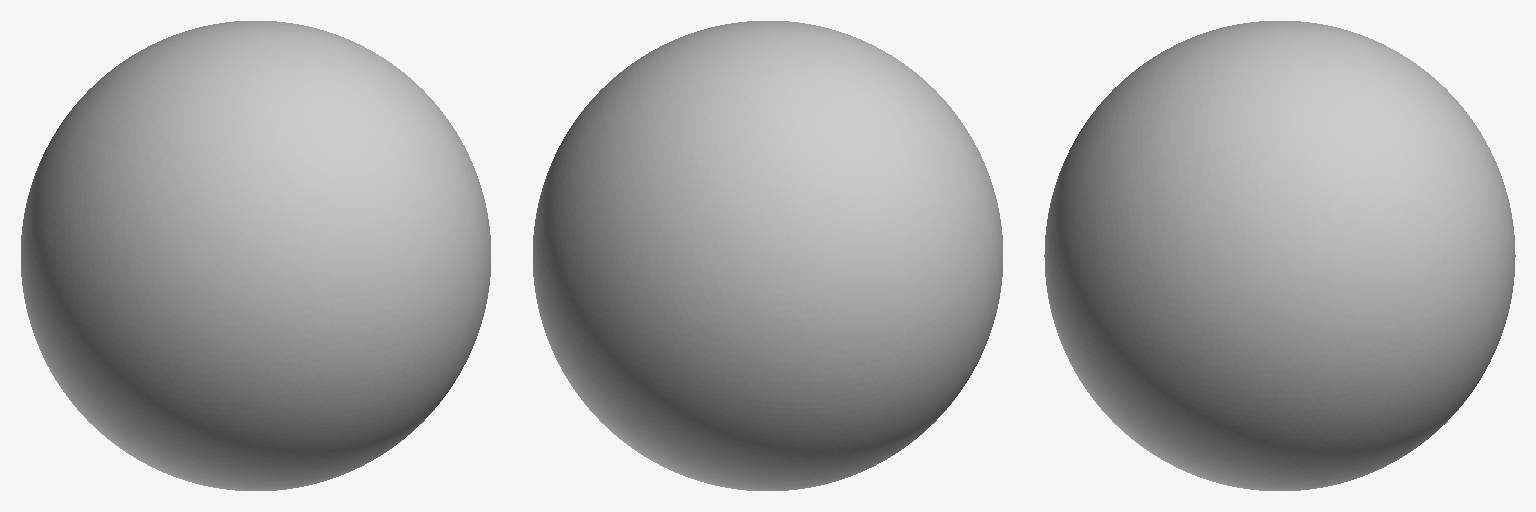
The model's file is Marte.obj.
3 views of the same model, side by side, from view 1: azimuth 30°, elevation 25°; view 2: azimuth 150°, elevation 25°; view 3: azimuth 270°, elevation 25° (orthographic).
Visible parts, largest first — view 1: Mars; view 2: Mars; view 3: Mars.
Part boxes in pixels (left/top/right/bottom): Mars: left=21, top=21, right=490, bottom=490; Mars: left=533, top=21, right=1002, bottom=490; Mars: left=1044, top=21, right=1515, bottom=490.
Bounding box in the file's own units: 1.32 × 1.32 × 1.32.